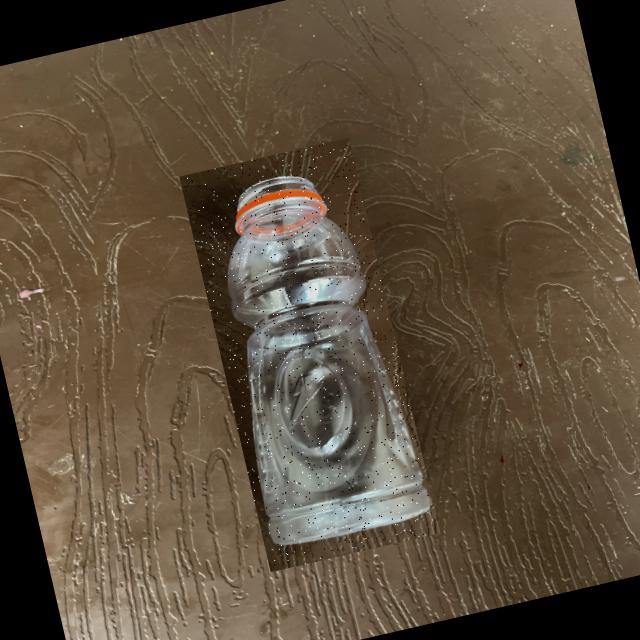PET_With_Cap: (179, 137, 440, 572)
